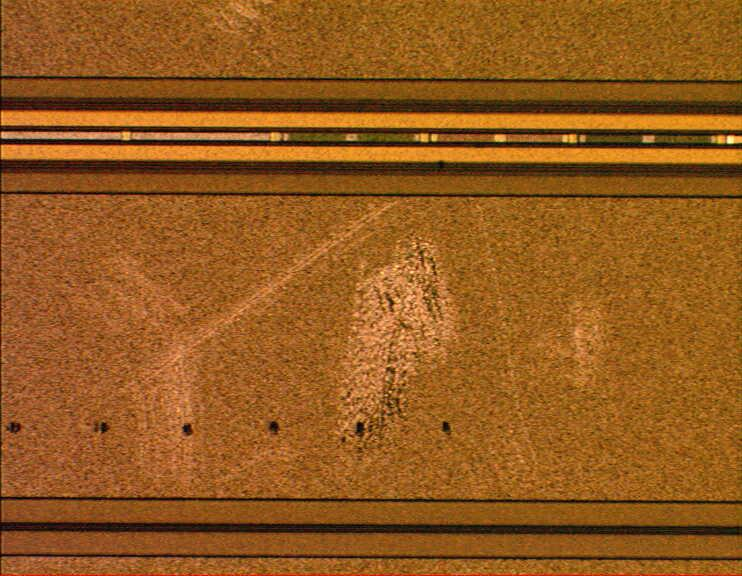SCRATCH: (64, 191, 610, 511)
